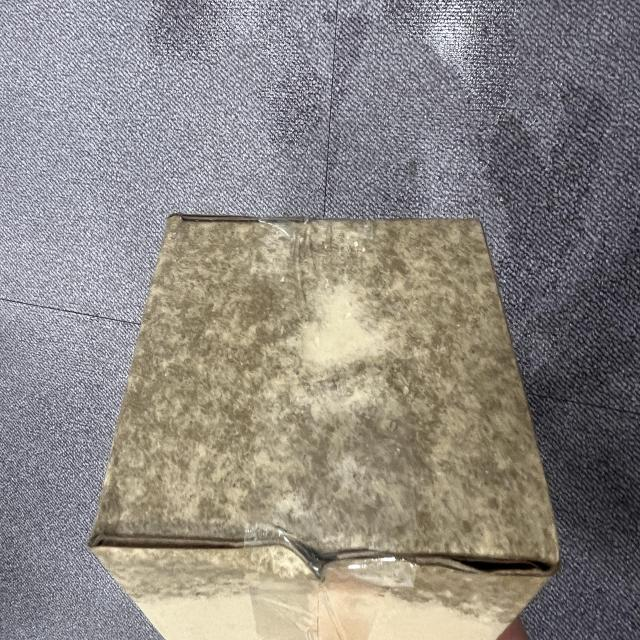wet: (98, 20, 546, 487)
